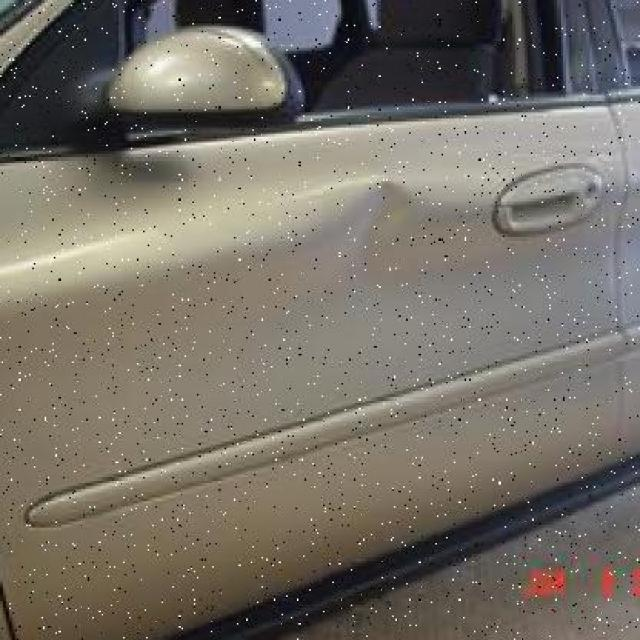car damage: (328, 171, 427, 234)
